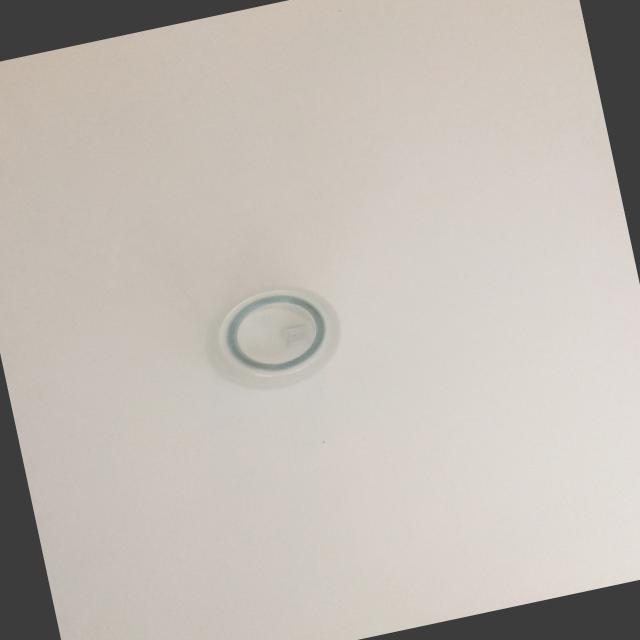Glass: (175, 261, 372, 438)
